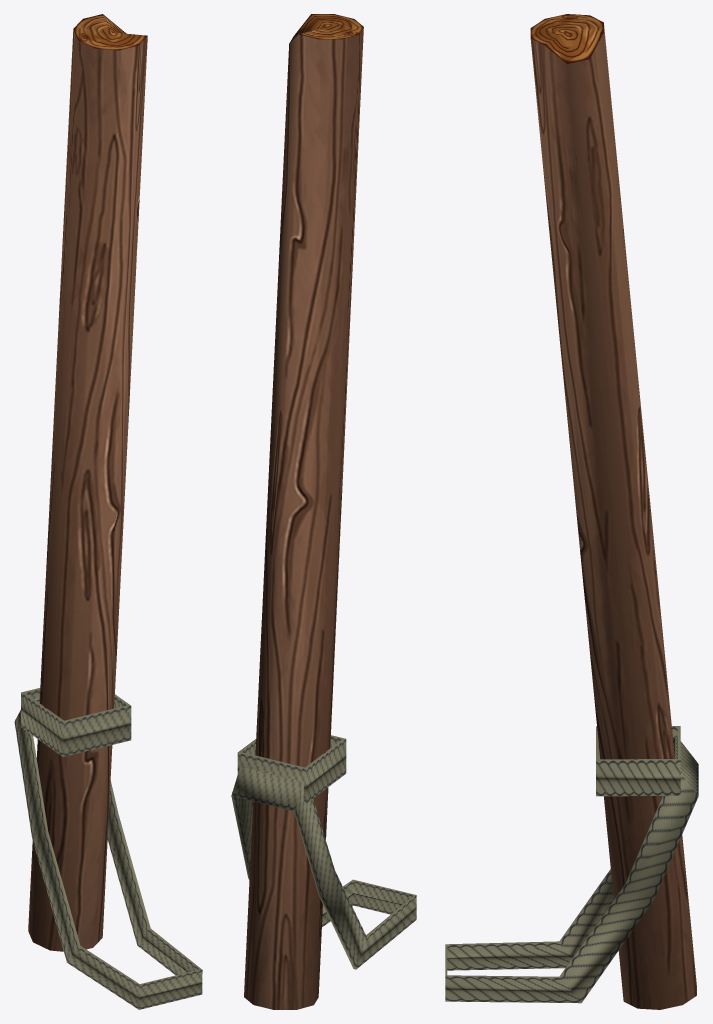
File: Fence_4.fbx
The picture shows the model from 3 angles, left to right: view 1: azimuth 30°, elevation 25°; view 2: azimuth 150°, elevation 25°; view 3: azimuth 270°, elevation 25°; orthographic projection. The views are drawn at different scales.
Parts seen in each view (by area): view 1: Fence_4; view 2: Fence_4; view 3: Fence_4.
Boxes of the visible parts, x1,y1,x2,y2 form: Fence_4: (14,14,202,1009); Fence_4: (231,14,416,1009); Fence_4: (445,14,698,1009).
Size of the model in its own units: 0.4494 by 5.53 by 1.31.
